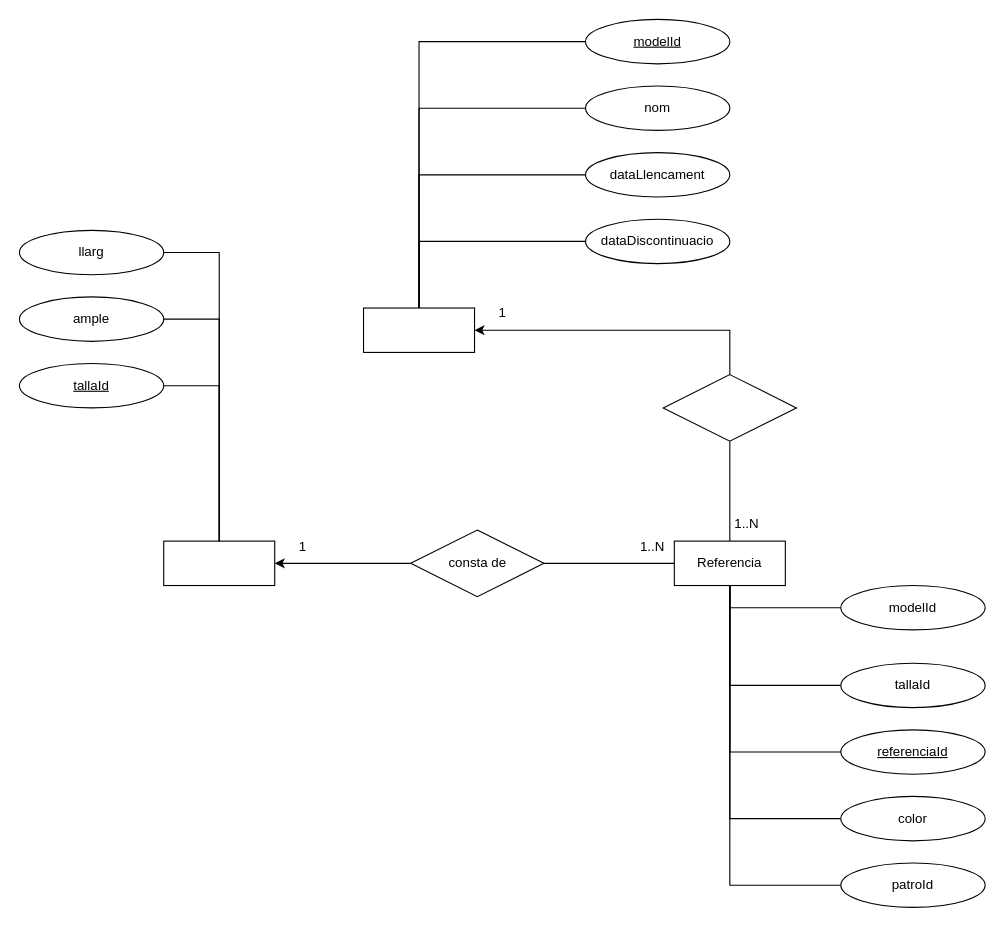
Some shapes in this 1005 by 927 pixel diagram are drawn without their labels. Each missing label, with the centre of its shape:
Model: (x=418, y=329)
precisa: (x=729, y=407)
Talla: (x=219, y=563)
